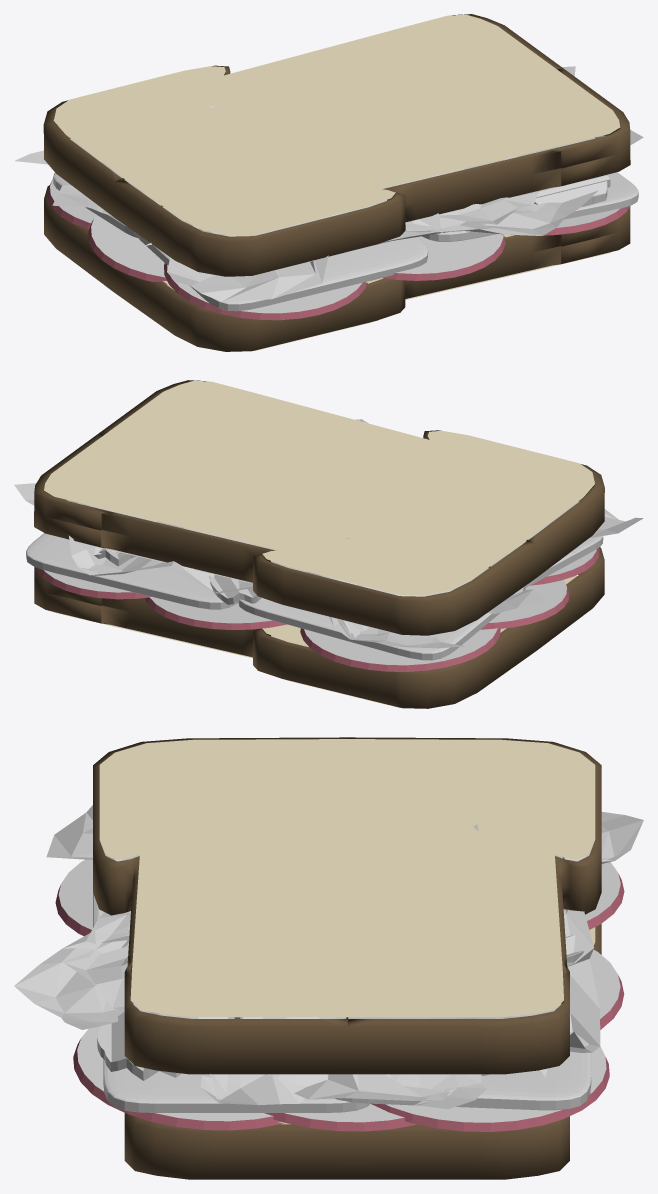
File: sandwich.dae
3 views of the same model, one above another, from view 1: azimuth 30°, elevation 25°; view 2: azimuth 150°, elevation 25°; view 3: azimuth 270°, elevation 25° (orthographic). The views are drawn at different scales.
Visible parts, largest first — view 1: Circle_007; view 2: Circle_007; view 3: Circle_007.
Boxes of the visible parts, x1,y1,x2,y2 form: Circle_007: (15, 14, 643, 351); Circle_007: (14, 380, 643, 708); Circle_007: (14, 737, 643, 1179).
Size of the model in its own units: 2.35 by 1.79 by 0.5006.
